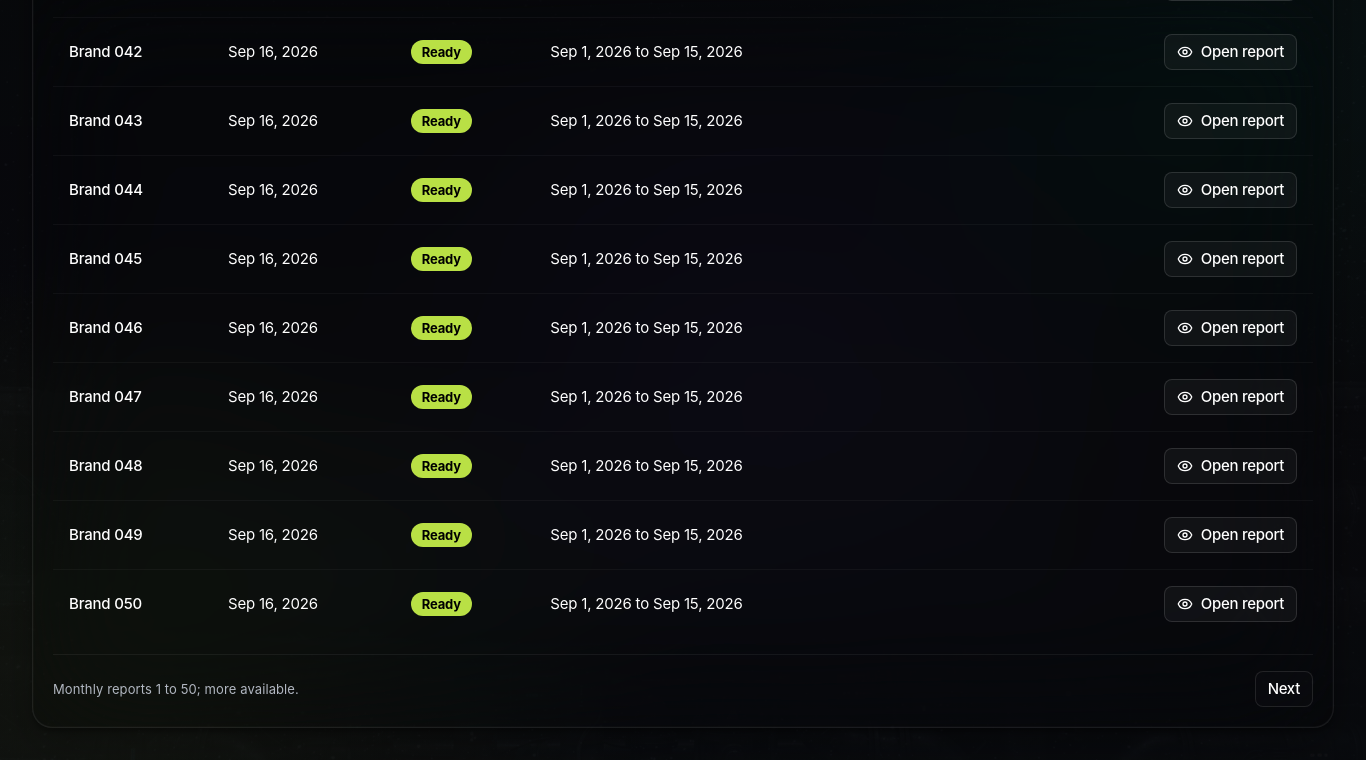
Test: whole calendar persistence and history paging › opens the second page and returns to the first with 51 reports
This screenshot has width=1366, height=760.
(page scrolled)
Check: the text "Brand 050" is shown, box x1=53 y1=569 x2=212 y2=638
Check: the text "Brand 051" is not shown
Click the button with aria-label "Next monthly reports" at (1284, 688), box x1=1255 y1=670 x2=1313 y2=706
(page scrolled)
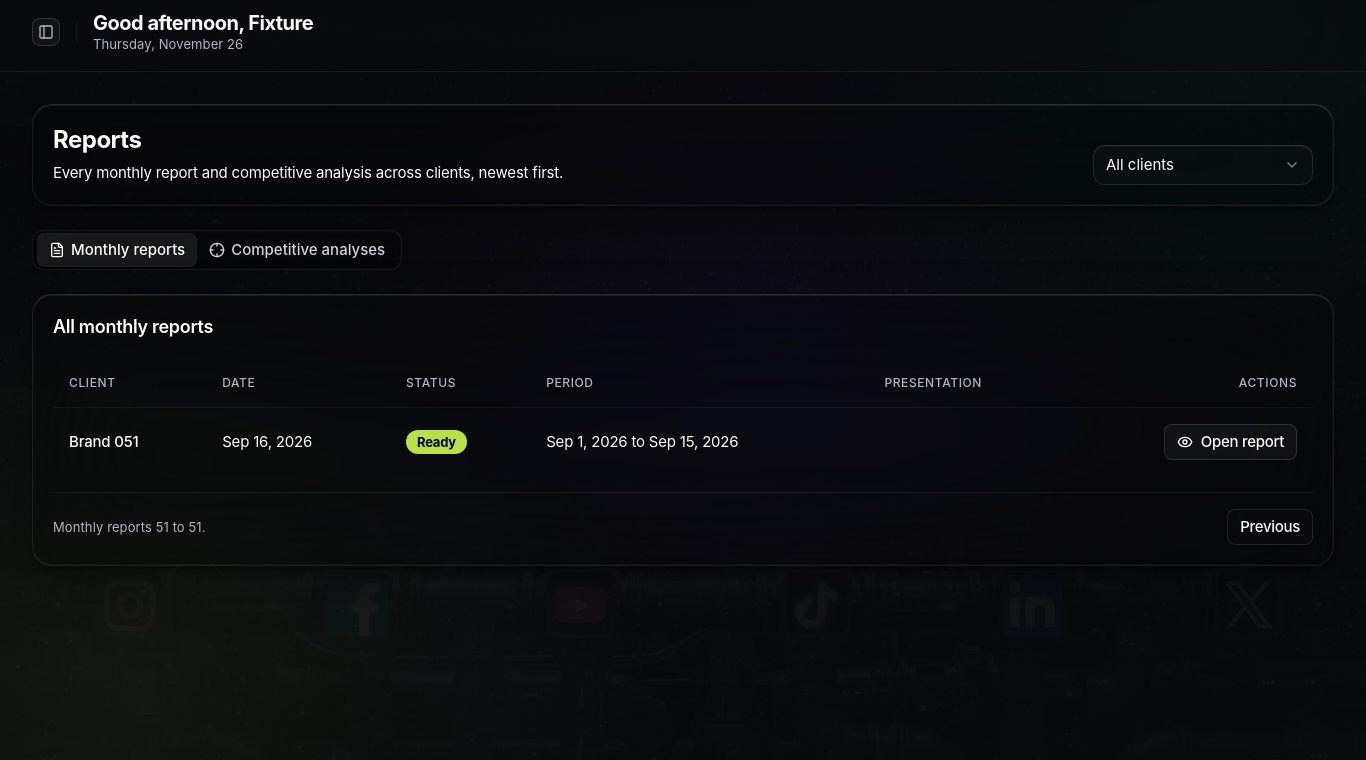
Check: the text "Brand 051" is shown, box x1=53 y1=407 x2=206 y2=476
Click the button with aria-label "Previous monthly reports" at (1270, 526), box x1=1227 y1=508 x2=1313 y2=544
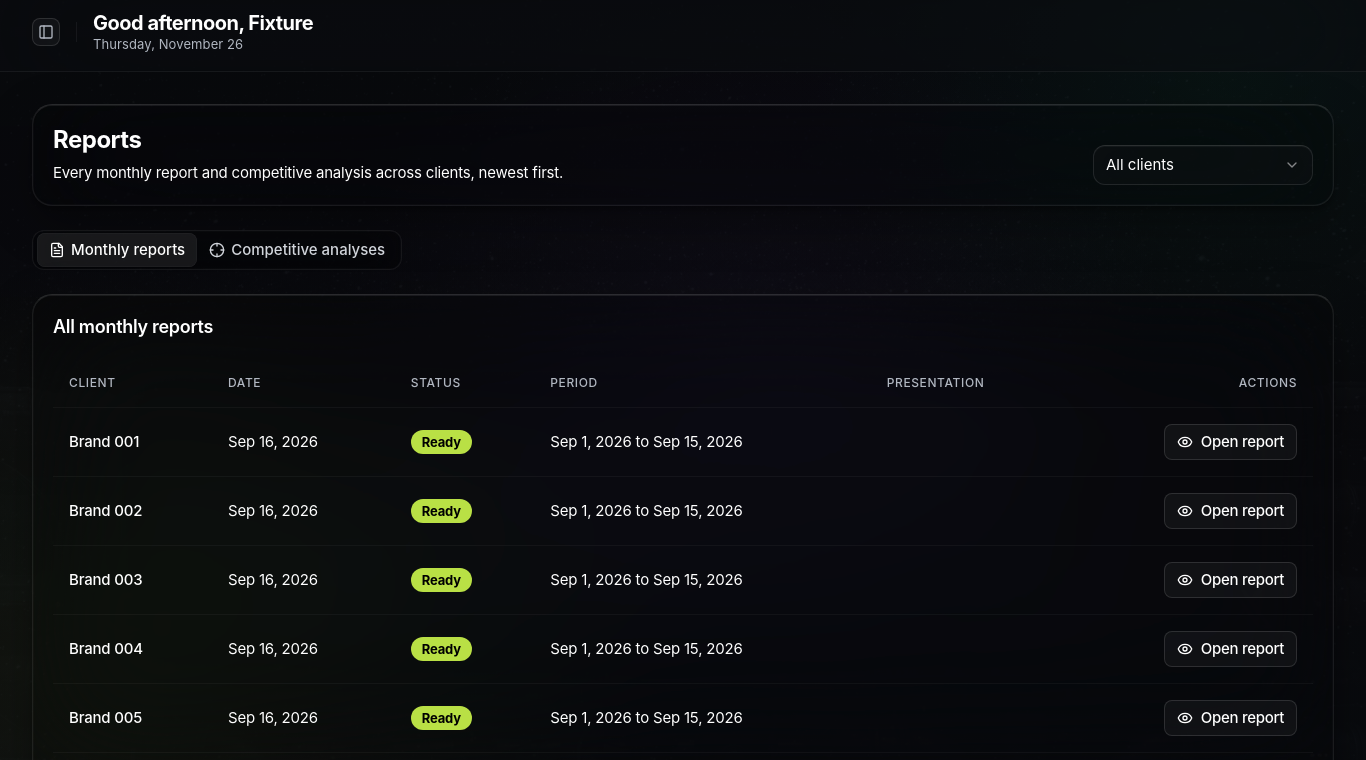
Check: the text "Brand 001" is shown, box x1=53 y1=407 x2=212 y2=476
